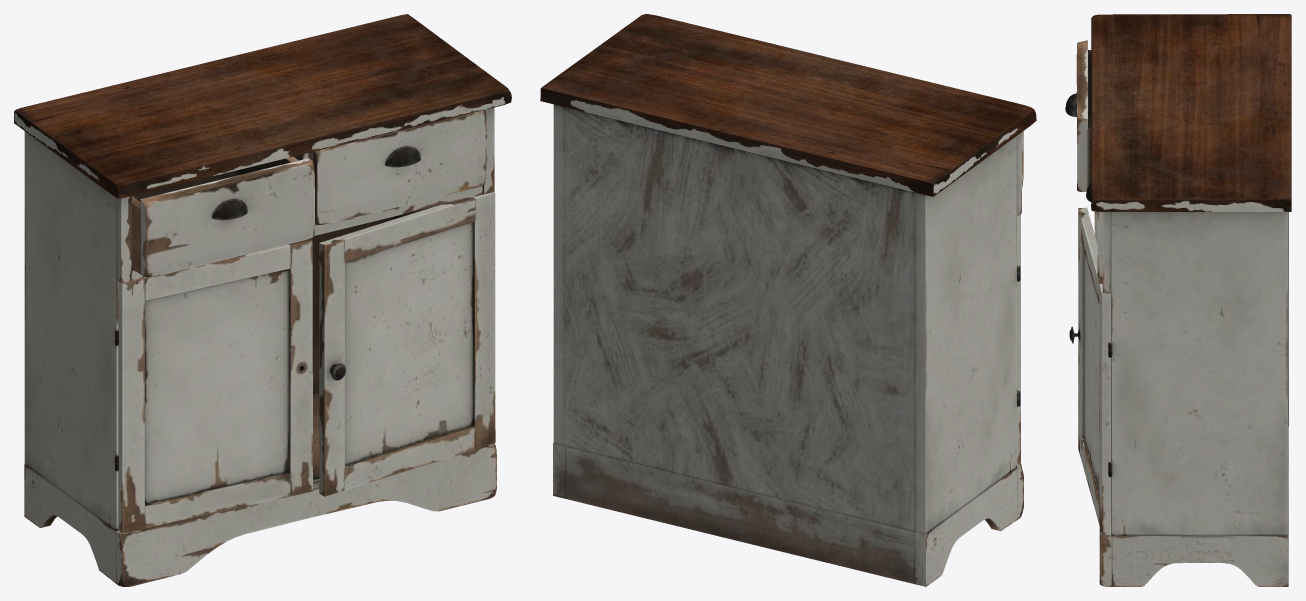
Rendered from painted_wooden_cabinet.glb.
3 views of the same model, side by side, from view 1: azimuth 30°, elevation 25°; view 2: azimuth 150°, elevation 25°; view 3: azimuth 270°, elevation 25° (orthographic). The views are drawn at different scales.
Parts seen in each view (by area): view 1: painted_wooden_cabinet; view 2: painted_wooden_cabinet; view 3: painted_wooden_cabinet.
Part boxes in pixels (left/top/right/bottom): painted_wooden_cabinet: left=14, top=14, right=511, bottom=586; painted_wooden_cabinet: left=540, top=14, right=1036, bottom=586; painted_wooden_cabinet: left=1065, top=14, right=1291, bottom=586.
Size of the model in its own units: 1.19 by 1.18 by 0.6166.
1 material, 1 textured.
